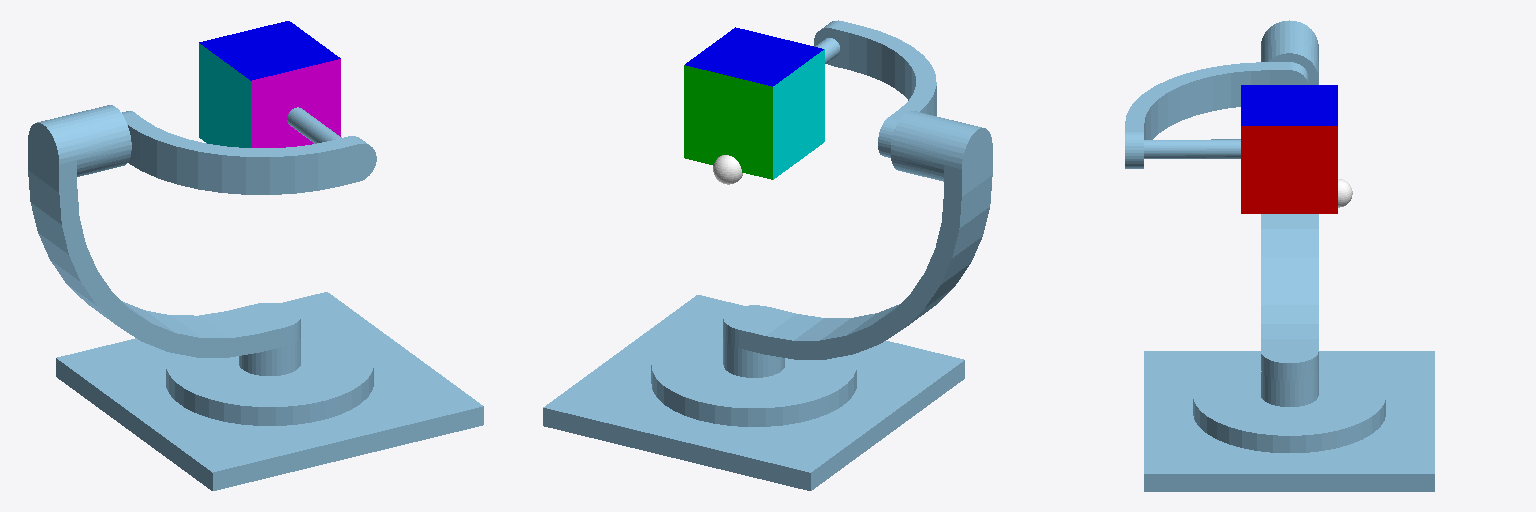
robot.urdf — gimbal:
<?xml version="1.0"?>

<robot name="gimbal">
  
  <!-- *************************************************** -->
  <!-- ******************** Kinematics ******************* -->
  <!-- *************************************************** -->
  <!-- Note the 'origin' tag in the joints defines the
       shift and reorientation before the continuous joint
       rotates around the 'axis'. -->

  <link name="world">
    <visual>
      <geometry>
        <mesh filename="package://hwsols/meshes/GimbalBase.dae"/>
      </geometry>
    </visual>
  </link>

  <joint name="pan" type="continuous">
    <parent link="world"/>
    <child  link="lowerarm"/>
    <origin xyz="0 0 0" rpy="0 0 0"/>
    <axis   xyz="0 0 1"/>
  </joint>

  <link name="lowerarm">
    <visual>
      <geometry>
        <mesh filename="package://hwsols/meshes/GimbalLowerArm.dae"/>
      </geometry>
    </visual>
    <inertial>
      <mass value="0.5"/>
      <inertia
          ixx="0.005" ixy="0.0" ixz="0.0"
          iyy="0.005" iyz="0.0"
          izz="0.005"/>
    </inertial>
  </link>

  <joint name="tilt" type="continuous">
    <parent link="lowerarm"/>
    <child  link="upperarm"/>
    <origin xyz="0 0 0" rpy="0 0 0"/>
    <axis   xyz="1 0 0"/>
  </joint>

  <link name="upperarm">
    <visual>
      <geometry>
        <mesh filename="package://hwsols/meshes/GimbalUpperArm.dae"/>
      </geometry>
    </visual>
    <inertial>
      <mass value="0.5"/>
      <inertia
          ixx="0.005" ixy="0.0" ixz="0.0"
          iyy="0.005" iyz="0.0"
          izz="0.005"/>
    </inertial>
  </link>

  <joint name="roll" type="continuous">
    <parent link="upperarm"/>
    <child  link="tip"/>
    <origin xyz="0 0 0" rpy="0 0 0"/>
    <axis   xyz="0 1 0"/>
  </joint>

  <link name="tip">
    <visual>
      <geometry>
        <mesh filename="package://hwsols/meshes/CubePlus.dae"/>
      </geometry>
    </visual>
    <inertial>
      <mass value="4.0"/>
      <inertia
          ixx="0.01" ixy="0.0" ixz="0.0"
          iyy="0.01" iyz="0.0"
          izz="0.01"/>
    </inertial>
  </link>

</robot>

--- Render facts (derived) ---
The picture shows the robot from 3 angles, left to right: view 1: azimuth 30°, elevation 25°; view 2: azimuth 150°, elevation 25°; view 3: azimuth 270°, elevation 25°; orthographic projection.
Model gimbal with 4 links and 3 joints (3 continuous), rooted at world, posed every joint at zero.
Visible links, largest first — view 1: world, lowerarm, tip, upperarm; view 2: world, lowerarm, tip, upperarm; view 3: world, tip, lowerarm, upperarm.
Link boxes in pixels (<box>): world: <box>56,292,483,490</box>; lowerarm: <box>28,105,300,357</box>; tip: <box>199,21,340,147</box>; upperarm: <box>122,107,376,194</box>; world: <box>543,295,964,490</box>; lowerarm: <box>723,111,992,359</box>; tip: <box>684,27,824,184</box>; upperarm: <box>814,20,936,157</box>; world: <box>1144,351,1434,491</box>; tip: <box>1241,85,1352,213</box>; lowerarm: <box>1261,20,1318,380</box>; upperarm: <box>1125,62,1308,168</box>.
Bounding box of the posed robot: 0.4 × 0.32 × 0.37 m (x, y, z).
4 mesh visuals loaded from 4 distinct referenced files (4 Collada DAE).
